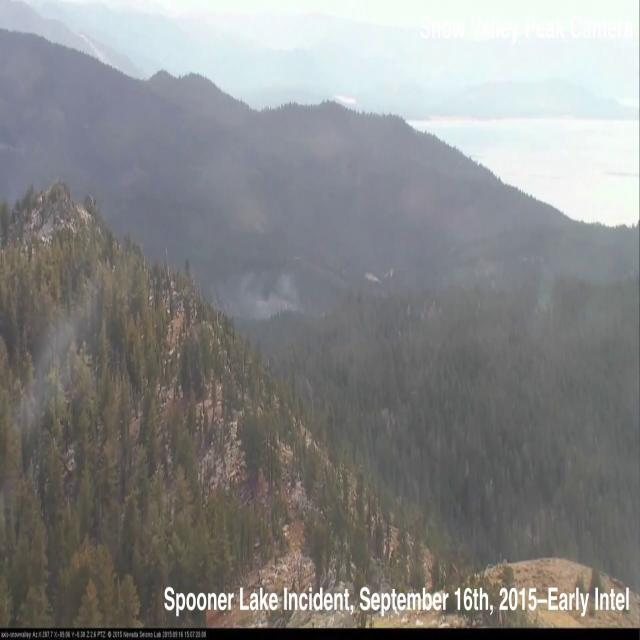smoke: (220, 259, 312, 326)
